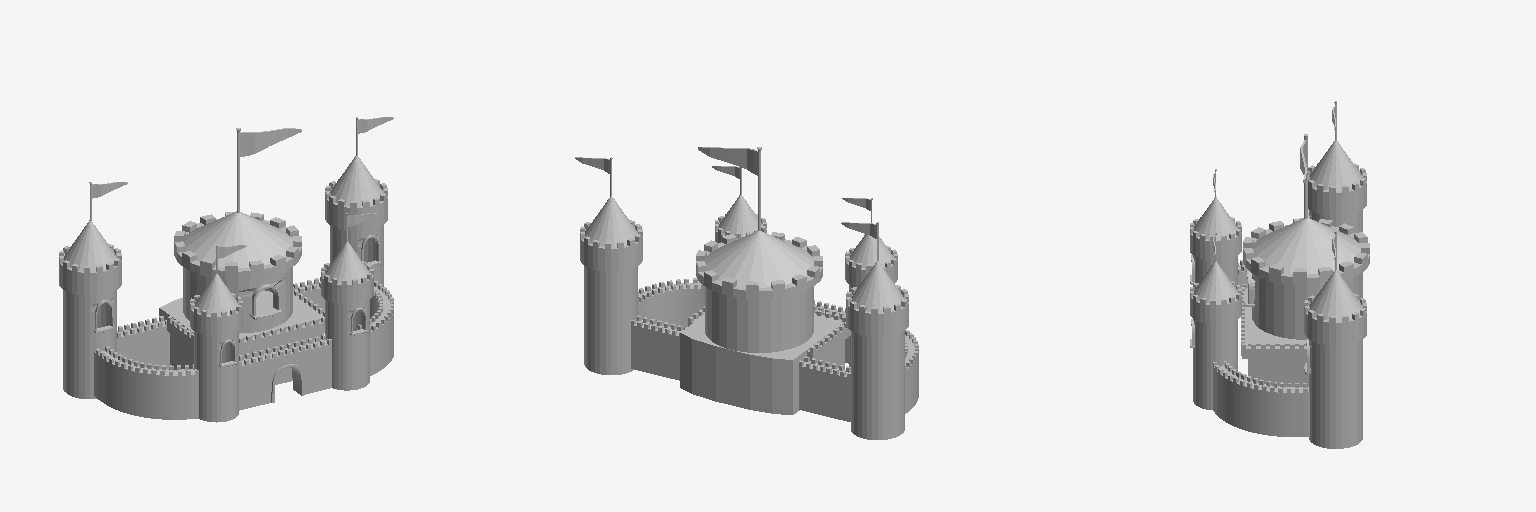
Rendered from Castle.obj.
3 renders of one model, left to right at view 1: azimuth 30°, elevation 25°; view 2: azimuth 150°, elevation 25°; view 3: azimuth 270°, elevation 25°, orthographic.
Parts seen in each view (by area): view 1: Castle Scene, modelPanel2ViewSelectedSet Castle Scene; view 2: Castle Scene, modelPanel2ViewSelectedSet Castle Scene; view 3: Castle Scene, modelPanel2ViewSelectedSet Castle Scene.
Boxes of the visible parts, box(x1,y1,x2,y2) form: Castle Scene: box(59, 117, 393, 422); modelPanel2ViewSelectedSet Castle Scene: box(357, 281, 393, 375); Castle Scene: box(575, 147, 918, 439); modelPanel2ViewSelectedSet Castle Scene: box(638, 278, 704, 329); Castle Scene: box(1190, 101, 1369, 448); modelPanel2ViewSelectedSet Castle Scene: box(1213, 361, 1309, 436).
Bounding box in the file's own units: 9.29 × 6.39 × 4.41.